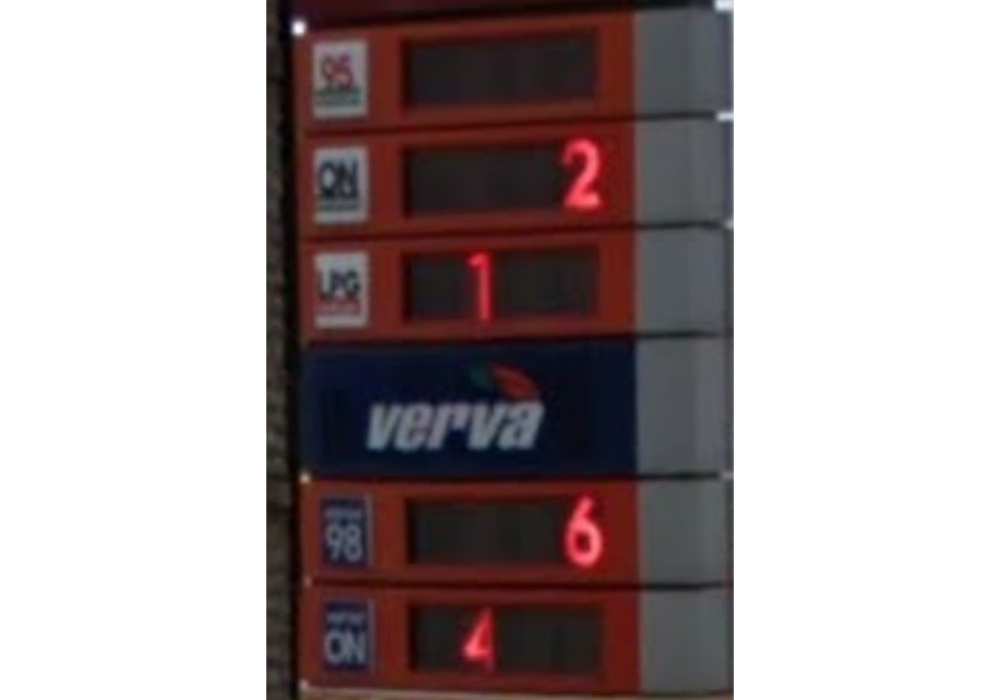LPG: (306, 249, 368, 328)
ON: (309, 140, 370, 228), (319, 591, 374, 676)
PB95: (309, 38, 370, 120)
PB98: (318, 492, 372, 570)
